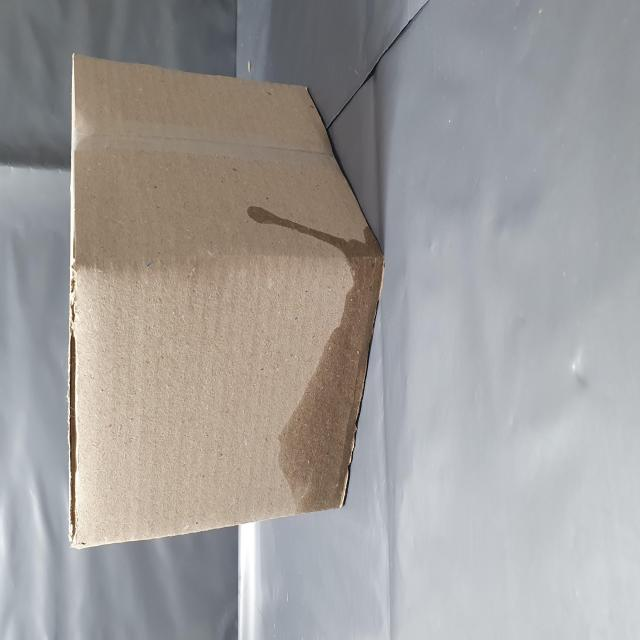wet: (72, 478, 236, 640)
